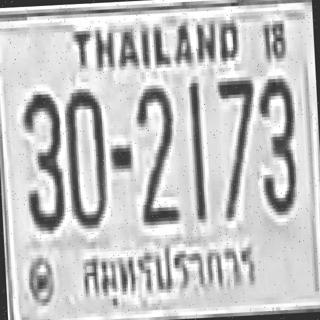N00: (64, 84, 110, 231)
N01: (187, 78, 206, 218)
N02: (135, 81, 183, 228)
N03: (20, 88, 67, 232), (256, 75, 300, 219)
N07: (216, 73, 261, 221)
P57: (73, 231, 262, 313)
